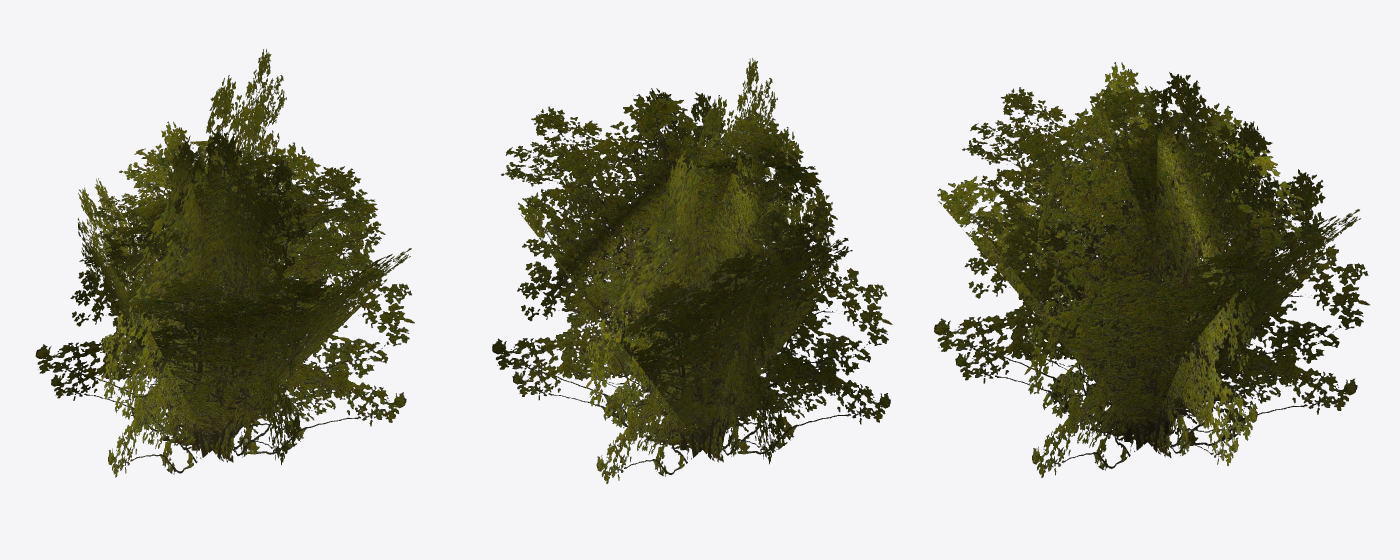
Rendered from KM_VOB_BIG_BUSH_02.glb.
3 renders of one model, left to right at view 1: azimuth 30°, elevation 25°; view 2: azimuth 150°, elevation 25°; view 3: azimuth 270°, elevation 25°, orthographic. The views are drawn at different scales.
Visible parts, largest first — view 1: Mesh; view 2: Mesh; view 3: Mesh.
Part boxes in pixels (x1,y1,x2,y2): Mesh: (35, 48, 414, 477); Mesh: (492, 58, 892, 483); Mesh: (934, 62, 1369, 477).
Size of the model in its own units: 1.93 by 2.15 by 2.23.
Materials: 1 (1 with a texture image).
